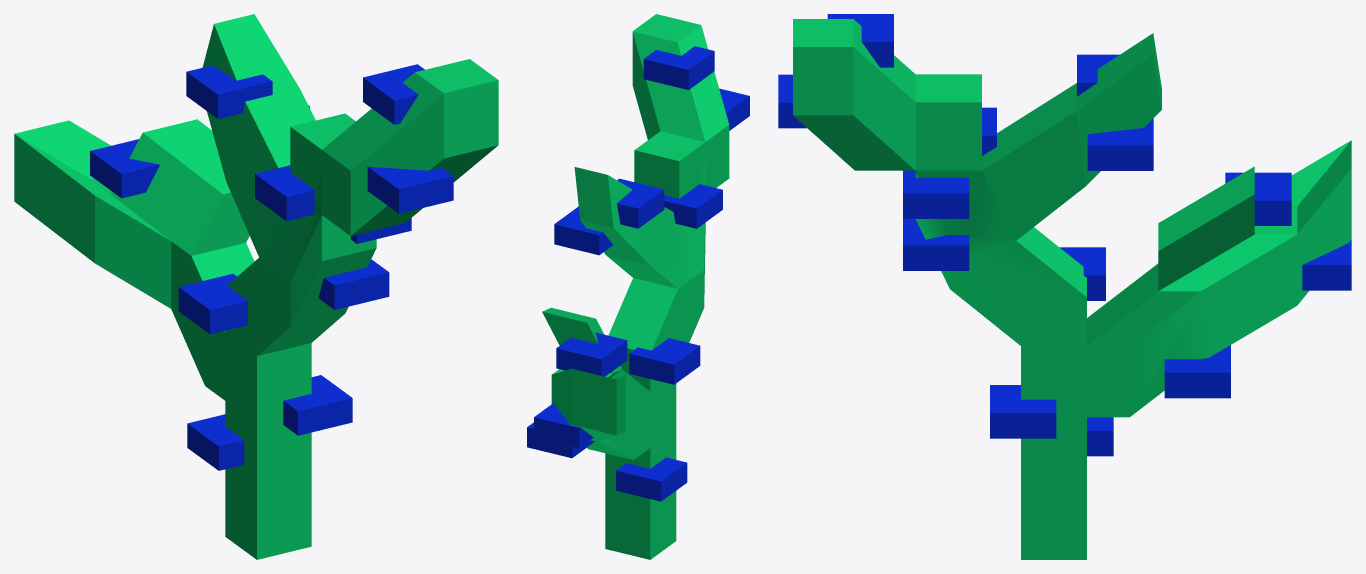
File: newblockytree 1.fbx
3 renders of one model, left to right at view 1: azimuth 30°, elevation 25°; view 2: azimuth 150°, elevation 25°; view 3: azimuth 270°, elevation 25°, orthographic. The views are drawn at different scales.
Parts seen in each view (by area): view 1: pCube3; view 2: pCube3; view 3: pCube3.
Boxes of the visible parts, bbox=[...] form: pCube3: bbox=[14, 14, 498, 559]; pCube3: bbox=[527, 14, 749, 559]; pCube3: bbox=[778, 14, 1351, 559].
Size of the model in its own units: 3.99 by 9.21 by 8.65.
